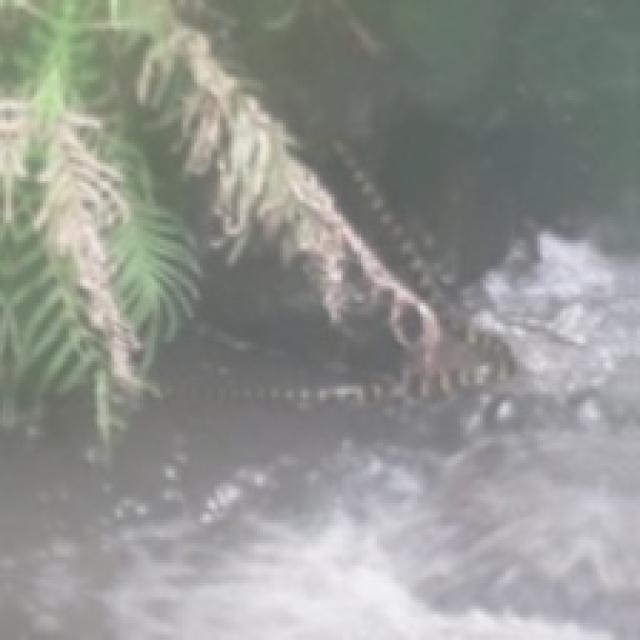mangrove cat snake: (191, 140, 518, 409)
